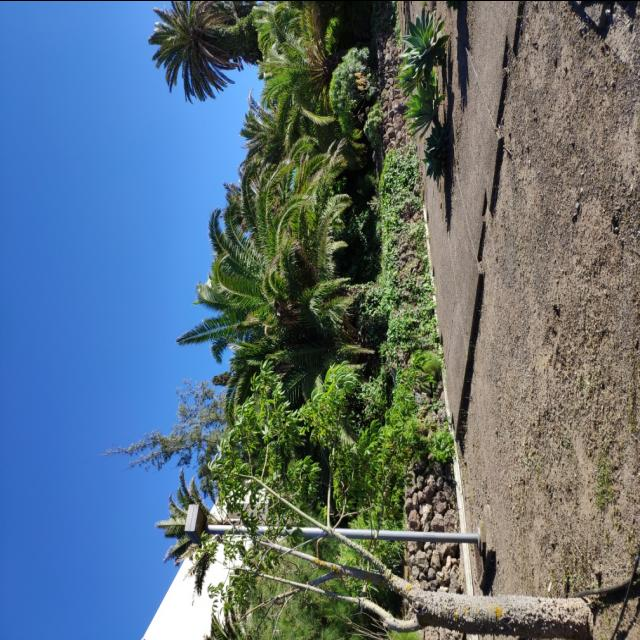Palm-Trees: (182, 156, 388, 400), (145, 0, 256, 102)
